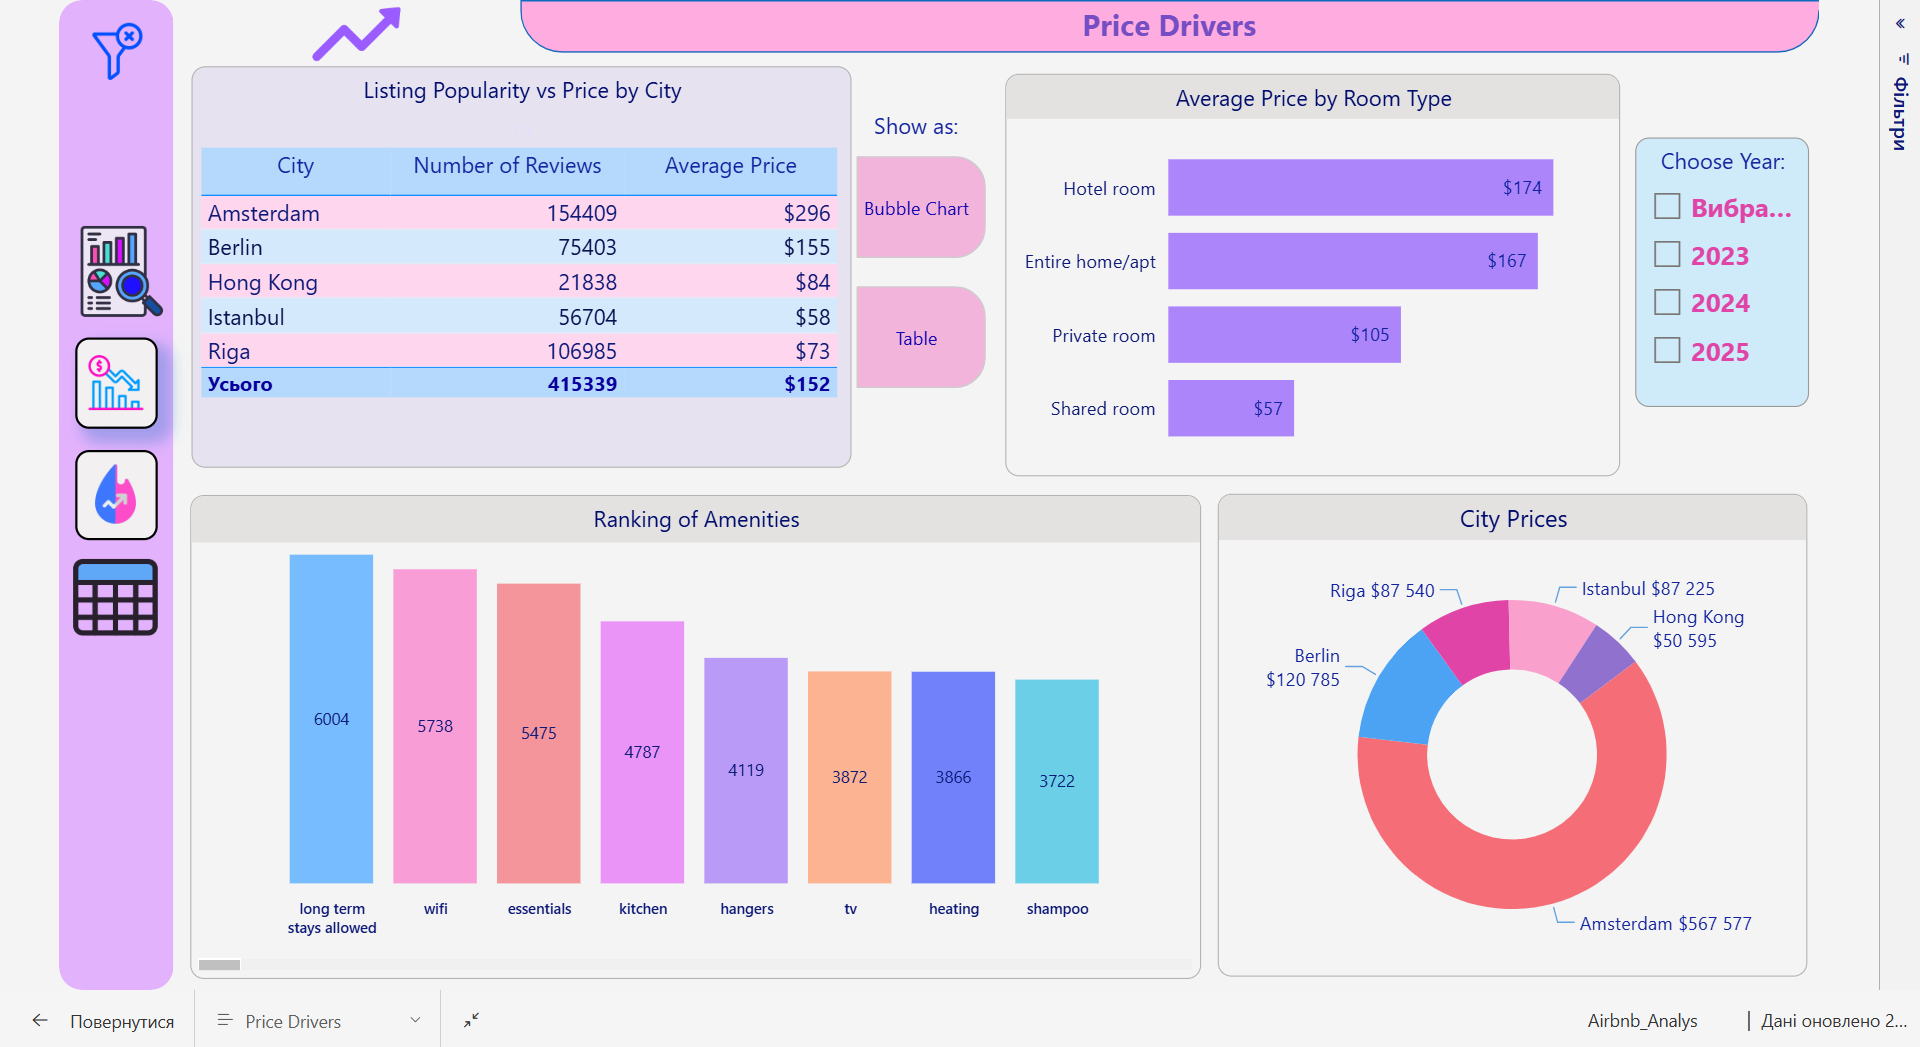

What the dashboard file says about the page in this screenshot:
{"tool":"powerbi","page":{"name":"Price Drivers","canvas":[1280,720],"ordinal":1},"visuals":[{"type":"scatterChart","title":"Listing Popularity vs Price by City","fields":{"Series":["Listings5City.City"],"Size":["_measures.NumberOfReviews"],"Y":["_measures.AveragePrice"],"X":["_measures.NumberOfReviews"]},"box":[95,51.7,480,291.7],"z":0},{"type":"slicer","title":"Choose Year:","fields":{"Values":["Calendar.Year"]},"box":[1146,100,126,196],"z":1000},{"type":"shape","box":[335,0,945,38.3],"z":2000},{"type":"textbox","box":[580,0,455,48.3],"z":3000},{"type":"clusteredBarChart","title":"Average Price by Room Type","fields":{"Category":["Listings5City.room_type"],"Y":["_measures.AveragePrice"]},"box":[688.2,53.6,447.3,292.7],"z":4000},{"type":"clusteredColumnChart","title":"Ranking of Amenities","fields":{"Category":["ListingAmenities.Amenities"],"Y":["_measures.CountofAmenities"]},"box":[95,360,735,351.7],"z":5000},{"type":"donutChart","title":"City Prices","fields":{"Category":["Listings5City.City"],"Y":["_measures.Price"]},"box":[842.8,359.1,429,351.5],"z":6000},{"type":"shape","box":[0,0,83.3,720],"z":7000},{"type":"image","box":[7,151,77,93],"z":8000},{"type":"image","box":[11.7,245,60,66.7],"z":9000},{"type":"image","box":[11.5,326.9,60,65.4],"z":10000},{"type":"image","box":[5.3,401.3,71.3,72],"z":11000},{"type":"image","box":[7.1,12.1,70.7,51.4],"z":12000},{"type":"shape","box":[580,114,94,74],"z":14000},{"type":"shape","box":[580,208,94,74],"z":15000},{"type":"textbox","box":[576,76,94,48],"z":16000},{"type":"image","box":[96,0,240,50],"z":17000}]}

Visuals, with their boxes on the page's 1280x720 design canvas (x1, y1, x2, y2). These are canvas units, not pixel positions in the 1920x1047 screenshot, which may show the page scaled, cropped or inside an application window:
"Listing Popularity vs Price by City" scatterChart: rect(95, 52, 575, 343)
"Choose Year:" slicer: rect(1146, 100, 1272, 296)
shape: rect(335, 0, 1280, 38)
textbox: rect(580, 0, 1035, 48)
"Average Price by Room Type" clusteredBarChart: rect(688, 54, 1136, 346)
"Ranking of Amenities" clusteredColumnChart: rect(95, 360, 830, 712)
"City Prices" donutChart: rect(843, 359, 1272, 711)
shape: rect(0, 0, 83, 720)
image: rect(7, 151, 84, 244)
image: rect(12, 245, 72, 312)
image: rect(12, 327, 72, 392)
image: rect(5, 401, 77, 473)
image: rect(7, 12, 78, 64)
shape: rect(580, 114, 674, 188)
shape: rect(580, 208, 674, 282)
textbox: rect(576, 76, 670, 124)
image: rect(96, 0, 336, 50)
